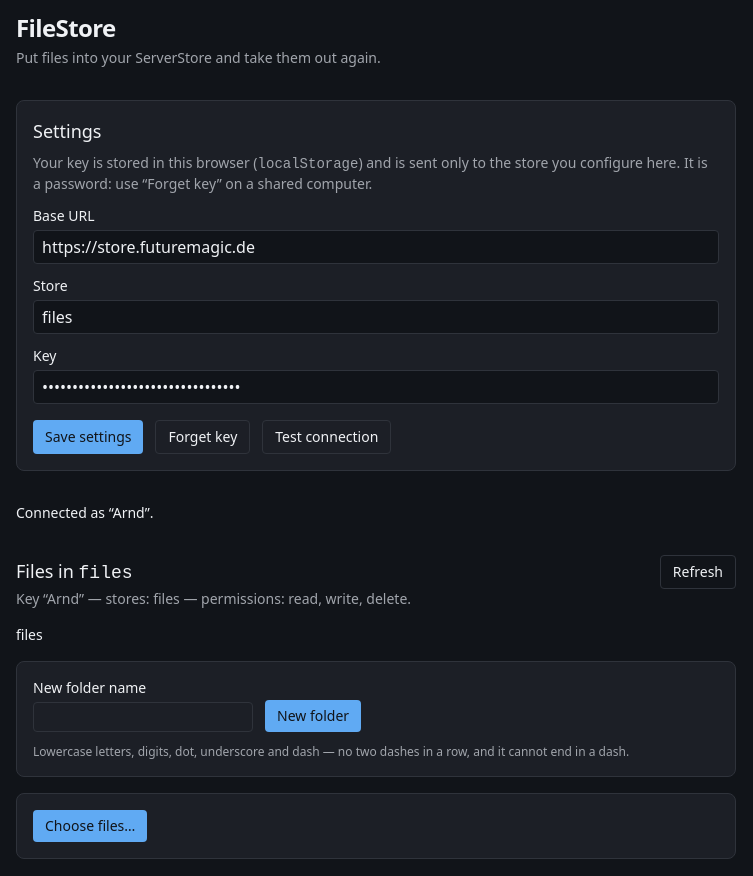
an upload shows the name mapping BEFORE anything is written
Click the button "Choose files…". click: (90, 826)
box: [33,810,147,842]
(page scrolled)
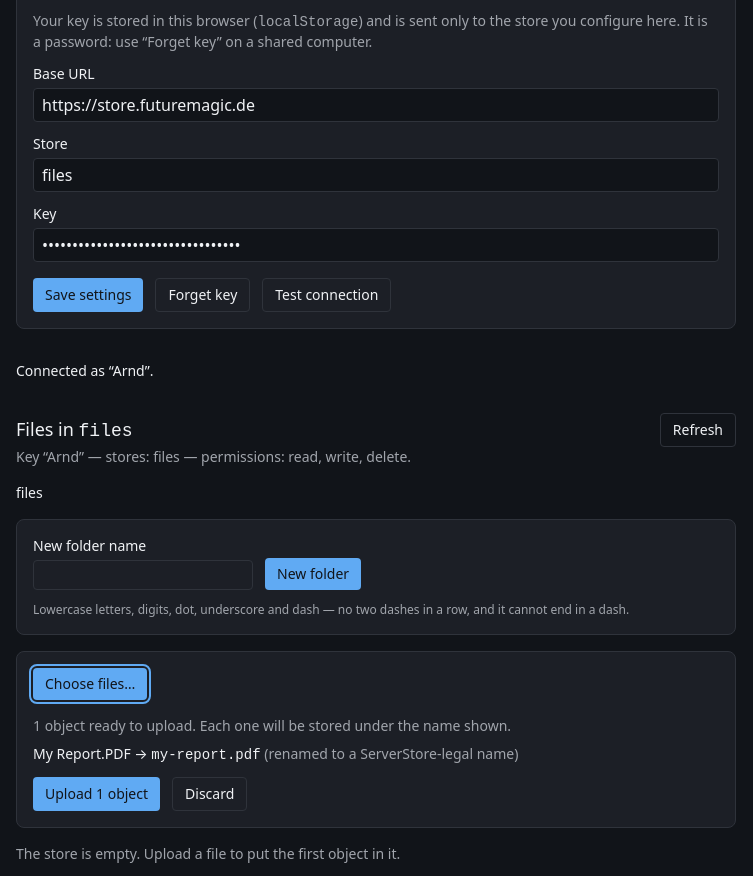
Check: the text "My Report.PDF" is shown, box [33,744,131,763]
Check: the text "my-report.pdf" is shown, box [151,747,261,763]
